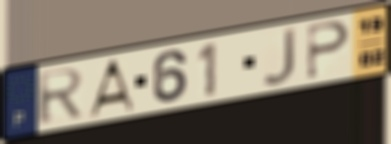1: (196, 41, 218, 99)
6: (151, 49, 190, 105)
A: (84, 56, 137, 119)
J: (259, 25, 298, 88)
P: (304, 19, 352, 82)
R: (35, 66, 87, 127)
